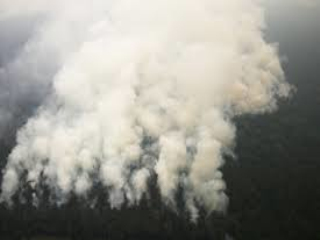smoke: (220, 27, 304, 117), (34, 127, 97, 211), (188, 105, 233, 217), (103, 127, 149, 213), (153, 134, 190, 218), (4, 122, 33, 203)
